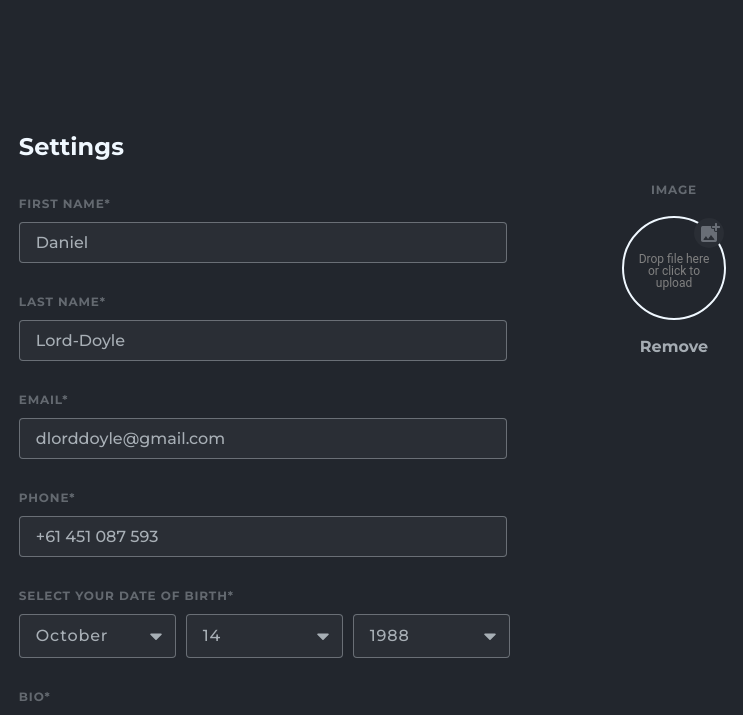
The DOB datepicker input › will save a new day in the dropdown when a user chooses a different day
The width and height of the screenshot is (743, 715).
Click the button with test id "dayButton". click: (264, 636)
box: [186,614,343,658]
(page scrolled)
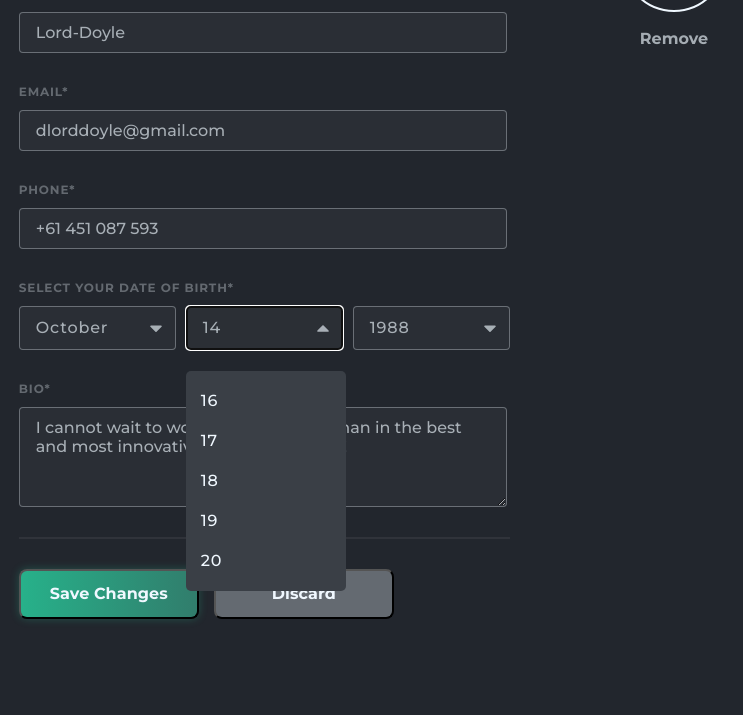
Result: the button with test id "dayButton" has class "dropdown-btn dropdown-btn-active" at [186,306,343,350]
Click the text "18". click: (210, 481)
box: [201,471,219,490]
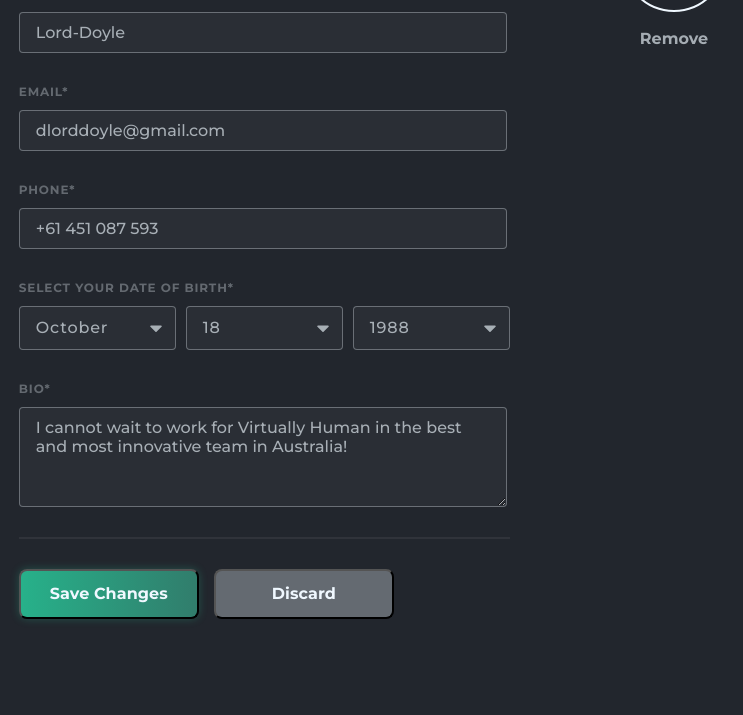
Result: the button with test id "dayButton" reads "18" at [203,318,221,337]
